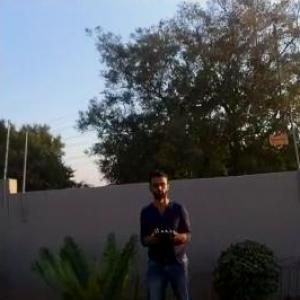follow: (126, 163, 201, 299)
